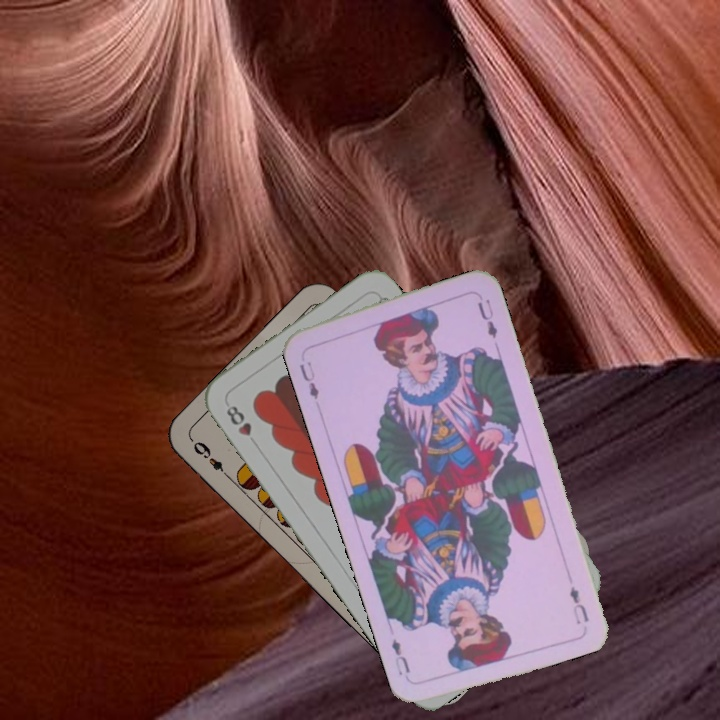E9: (189, 437, 233, 482)
EU: (295, 357, 322, 402), (565, 582, 592, 627)
H8: (222, 401, 261, 450)
